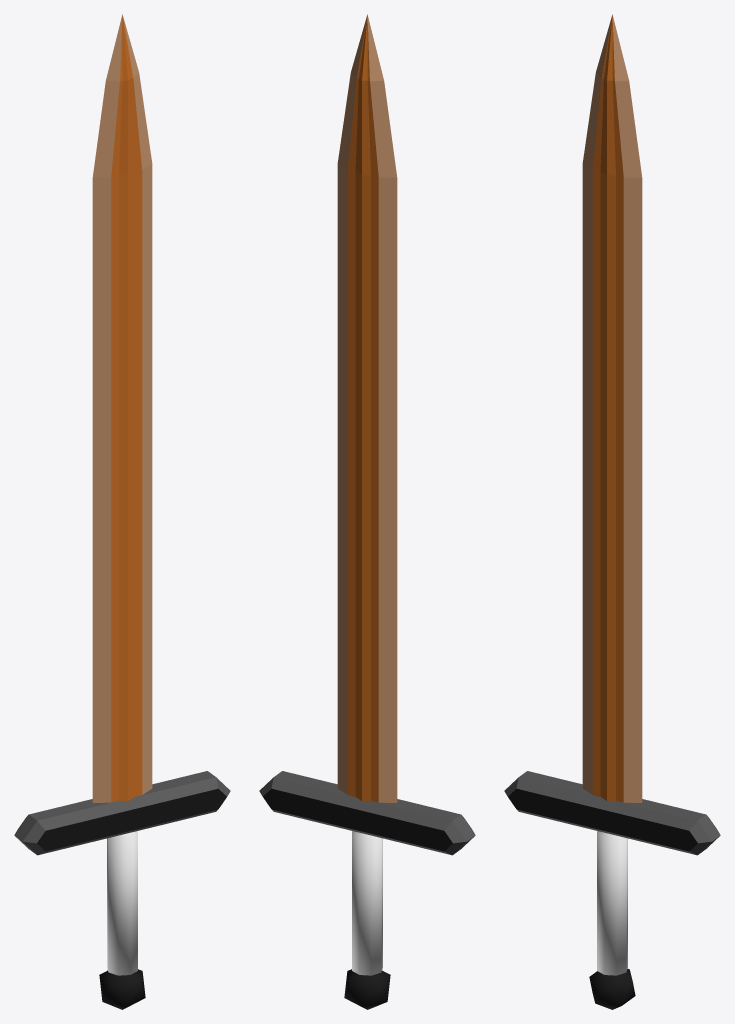
Rendered from the_horsemans_blade.glb.
The picture shows the model from 3 angles, left to right: view 1: azimuth 30°, elevation 25°; view 2: azimuth 150°, elevation 25°; view 3: azimuth 330°, elevation 25°; orthographic projection.
Parts seen in each view (by area): view 1: the_horsemans_blade_v0; view 2: the_horsemans_blade_v0; view 3: the_horsemans_blade_v0.
Boxes of the visible parts, left/top/right/bottom form: the_horsemans_blade_v0: left=14, top=14, right=230, bottom=1009; the_horsemans_blade_v0: left=259, top=14, right=475, bottom=1009; the_horsemans_blade_v0: left=504, top=14, right=720, bottom=1009.
Size of the model in its own units: 0.314 by 1.44 by 0.0578.
